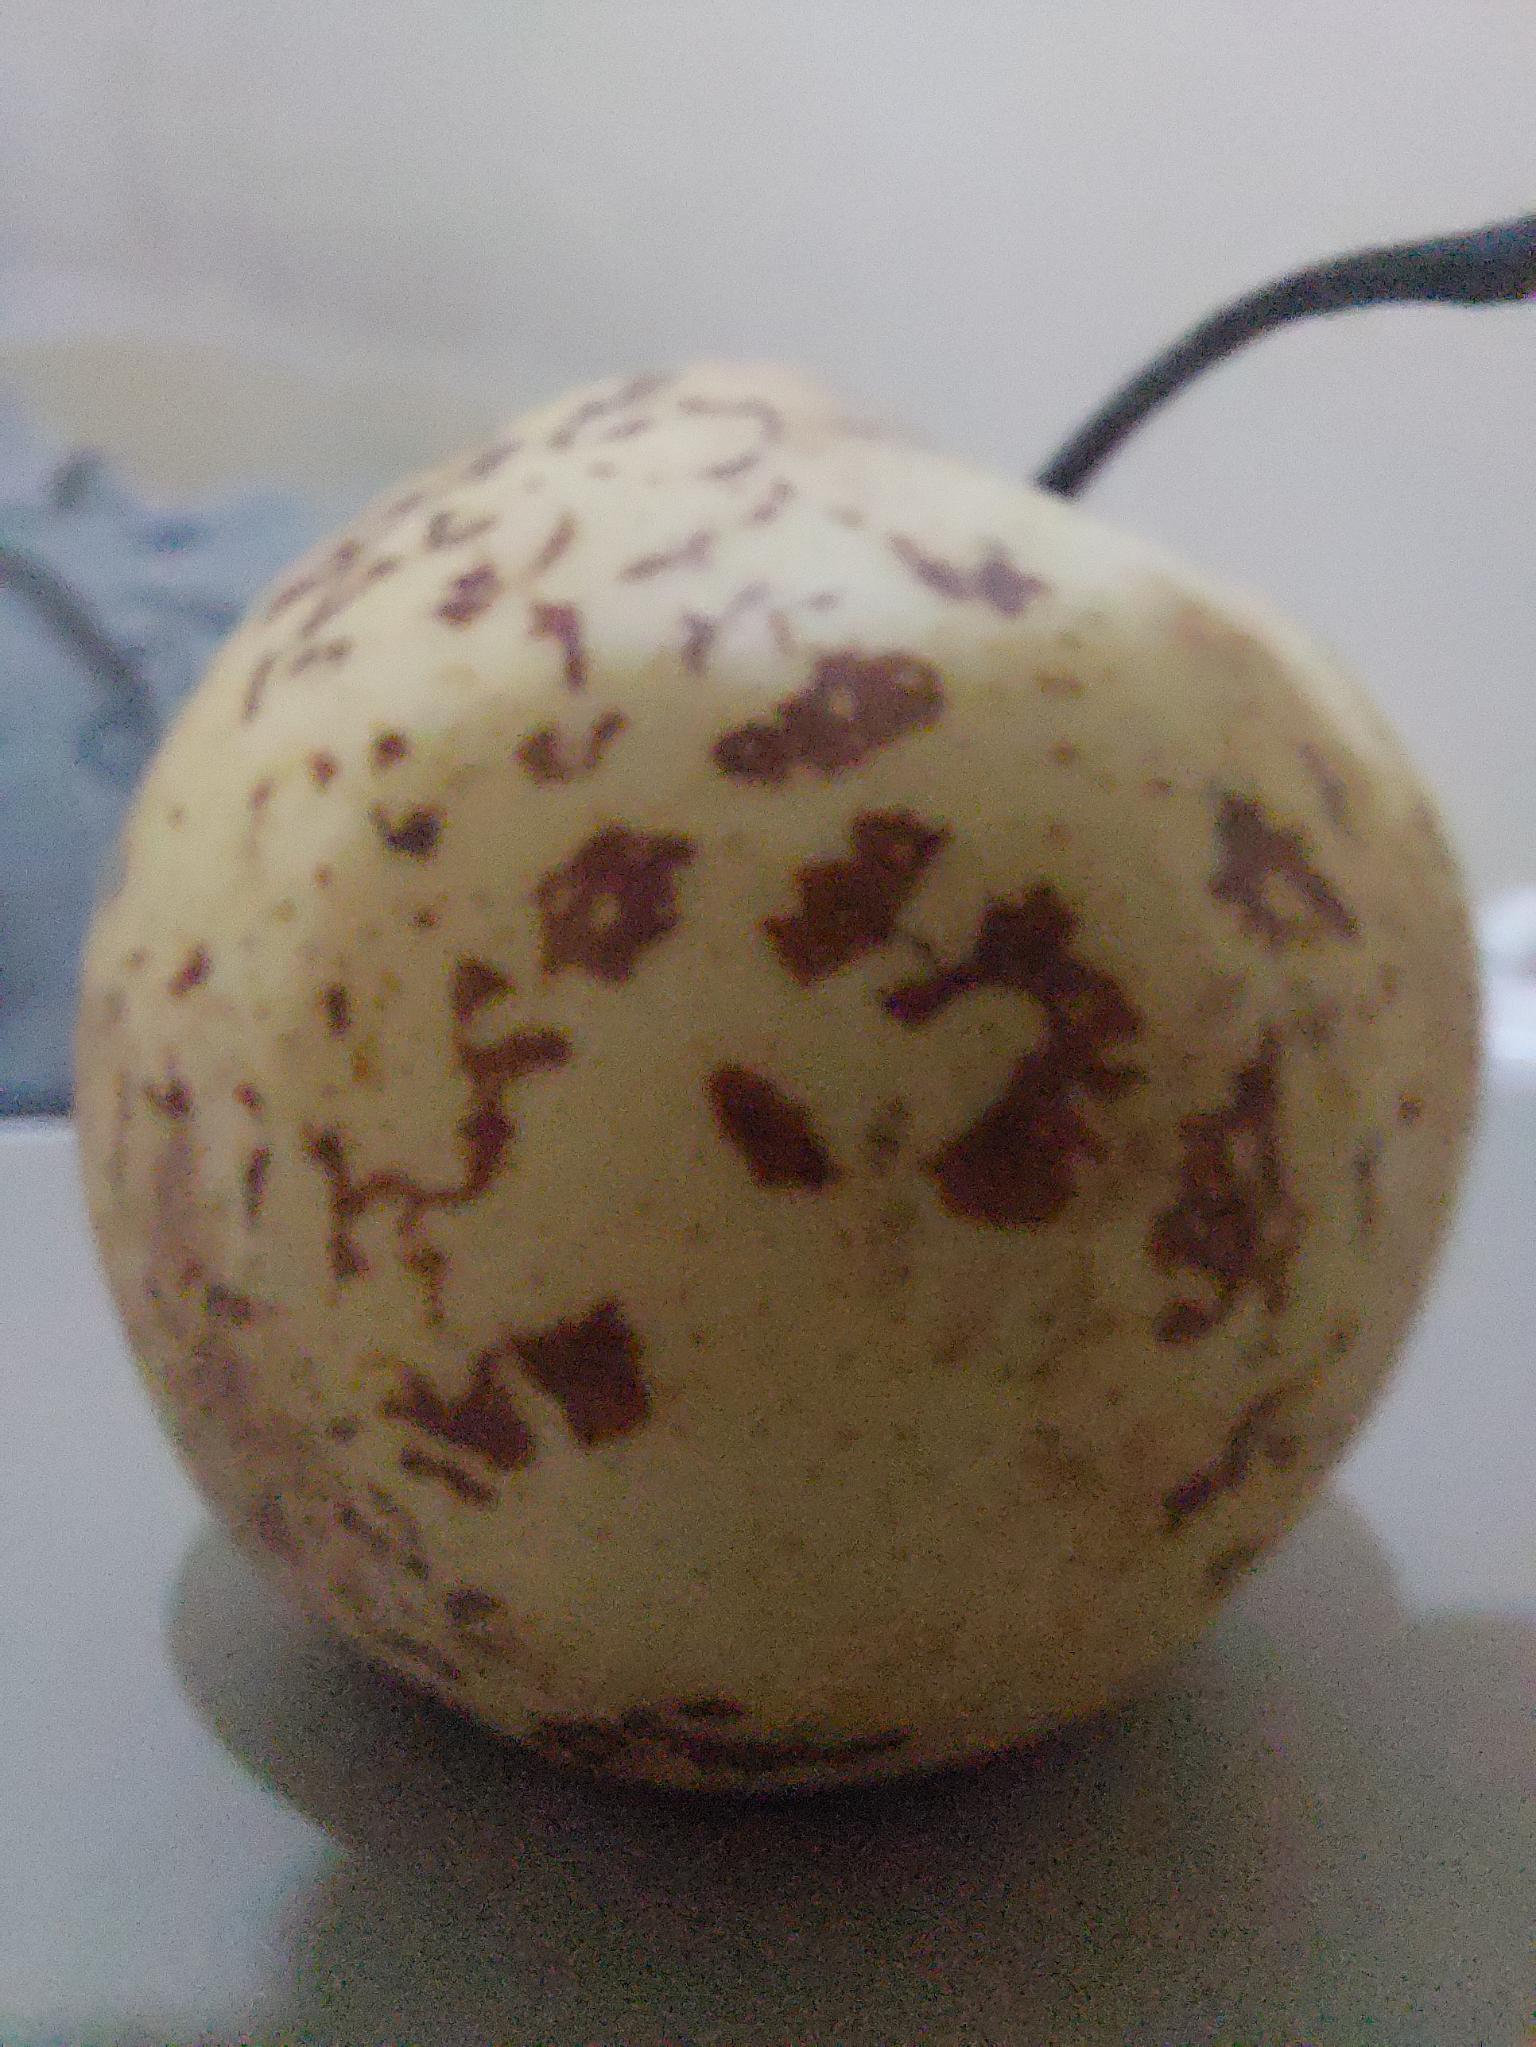Bad Pear: (56, 352, 1496, 1831)
